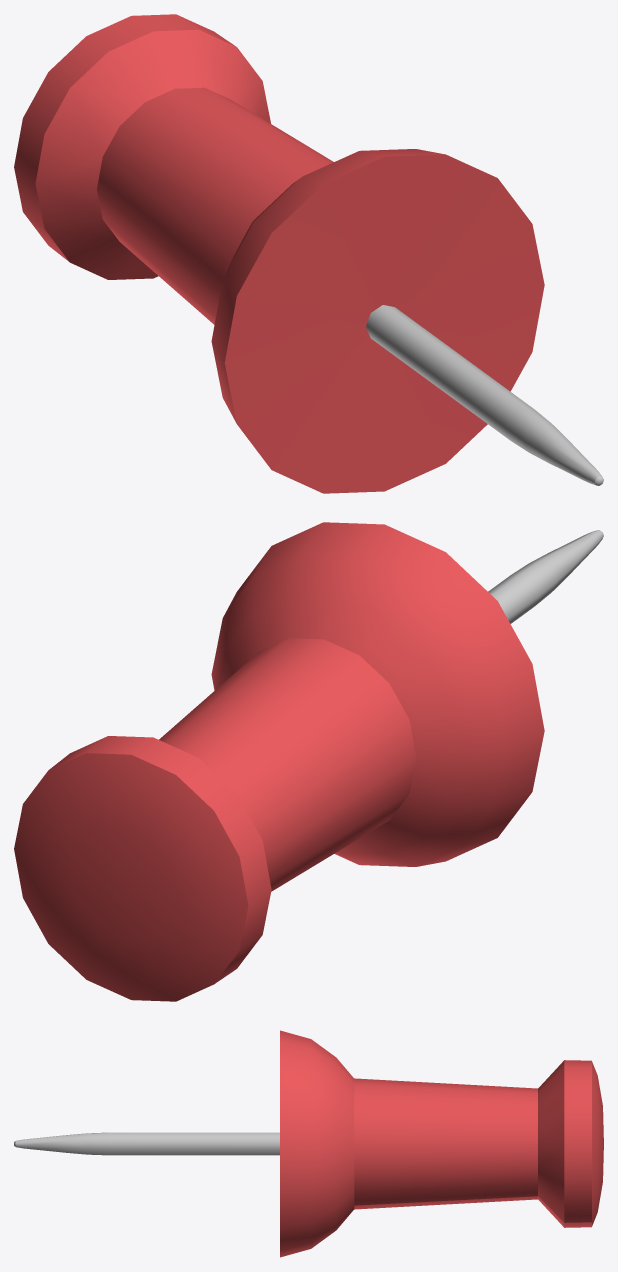
Rendered from 빨강압정 1.fbx.
The picture shows the model from 3 angles, top to bottom: view 1: azimuth 30°, elevation 25°; view 2: azimuth 150°, elevation 25°; view 3: azimuth 270°, elevation 25°; orthographic projection. The views are drawn at different scales.
Parts seen in each view (by area): view 1: pin_plastic; view 2: pin_plastic; view 3: pin_plastic.
Boxes of the visible parts, bbox=[...] form: pin_plastic: bbox=[14, 14, 603, 493]; pin_plastic: bbox=[14, 522, 603, 1001]; pin_plastic: bbox=[14, 1030, 603, 1257].
Size of the model in its own units: 92.73 by 92.73 by 241.
